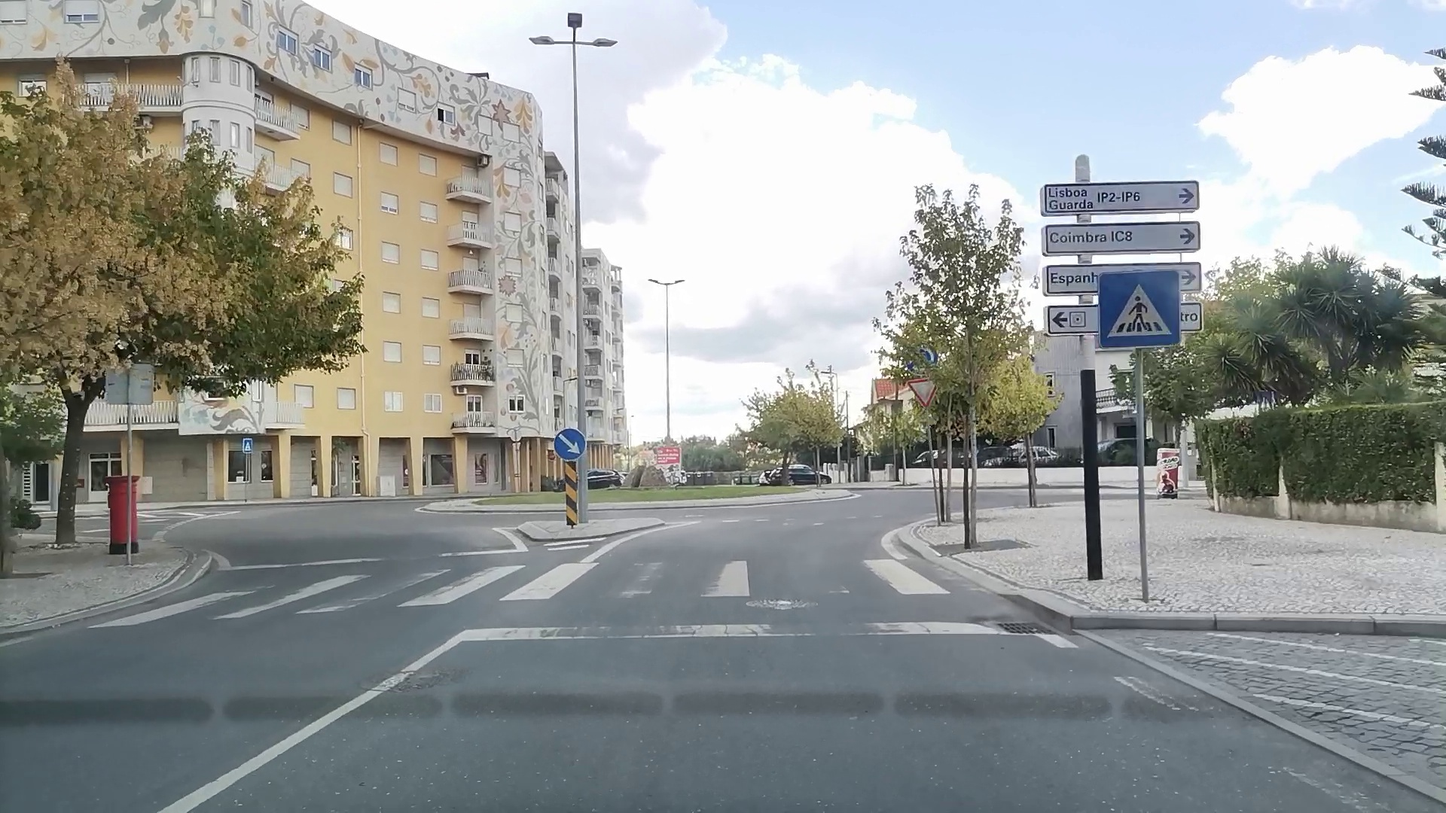Stairs: (88, 556, 965, 632)
